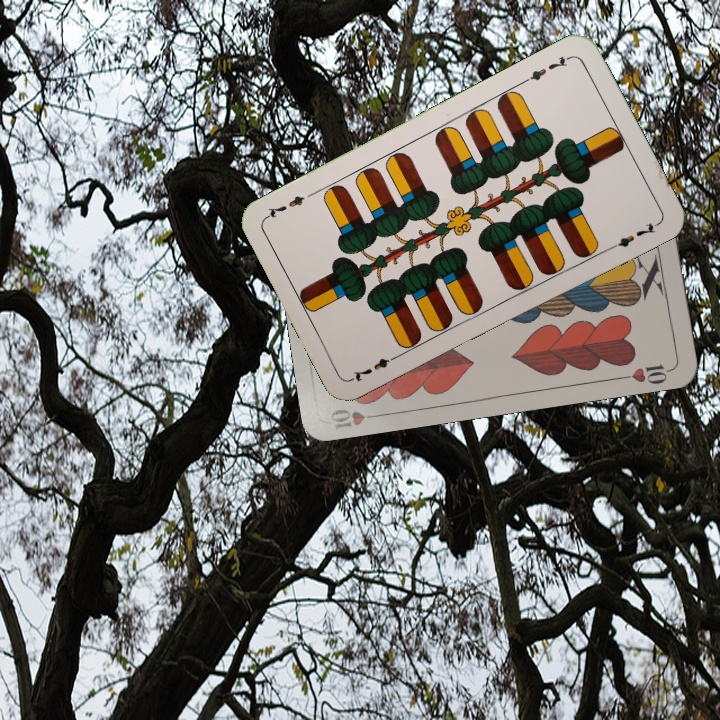E7: (348, 350, 403, 385), (519, 52, 574, 86)
H10: (326, 404, 385, 431)
